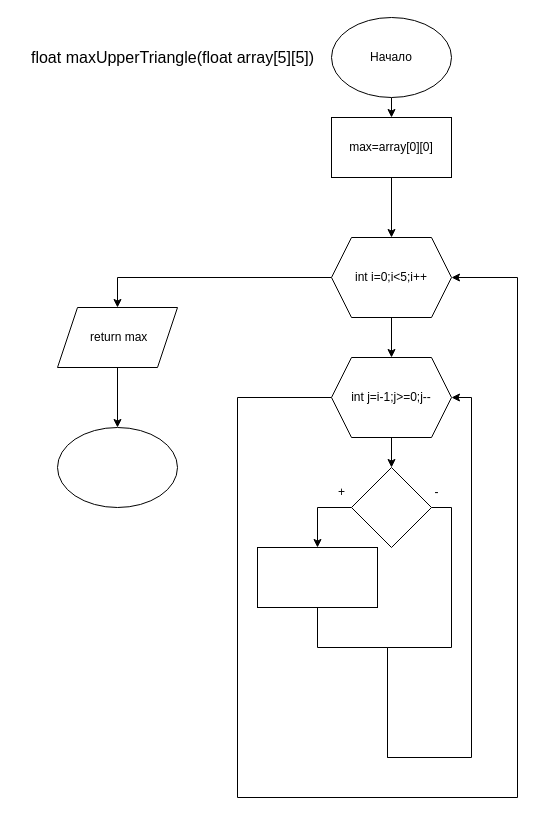
This 543x823 diagram has some shape labels left out. The shapes that lost their labels are listed below. From the top down, each one's centre as x and y in pixels, then its label:
At pixel 117 467: "Конец".
At pixel 391 507: "array[j][i]>max".
At pixel 317 577: "max = array[j][i];".
